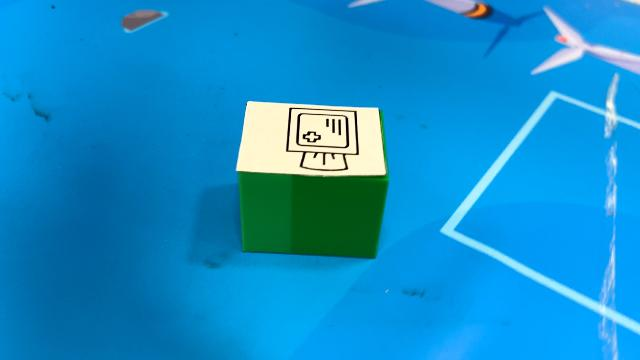napkin: (235, 99, 392, 260)
